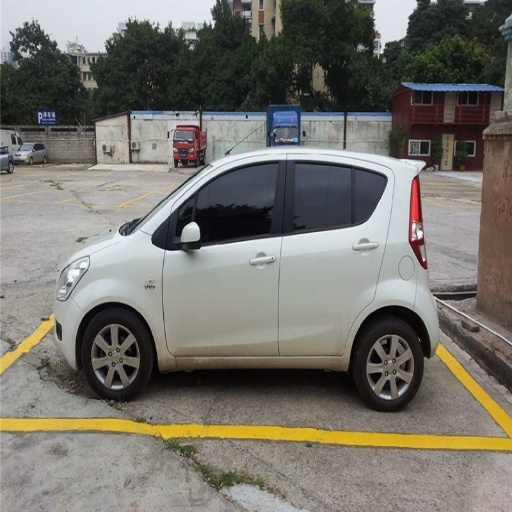back_left_door: (279, 155, 390, 355)
front_left_door: (163, 156, 286, 356)
